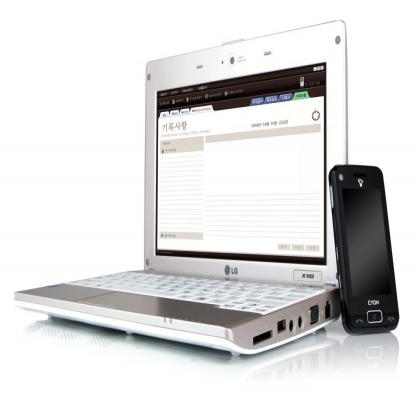board: (15, 37, 350, 374)
